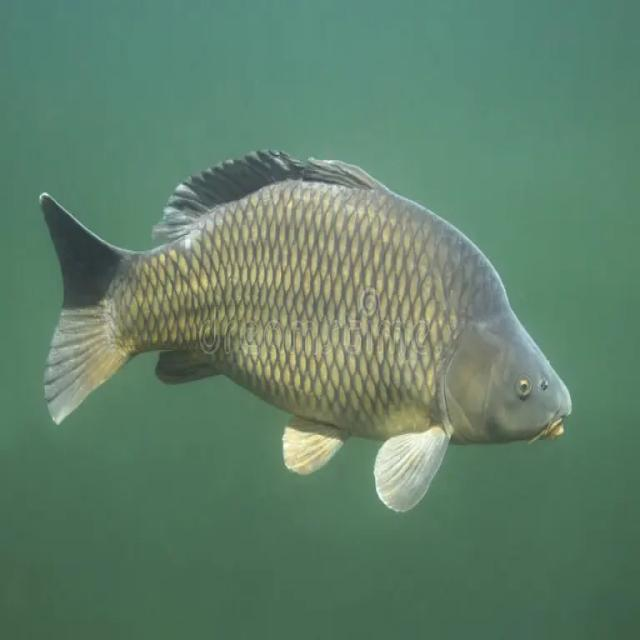Common carp: (40, 152, 569, 512)
